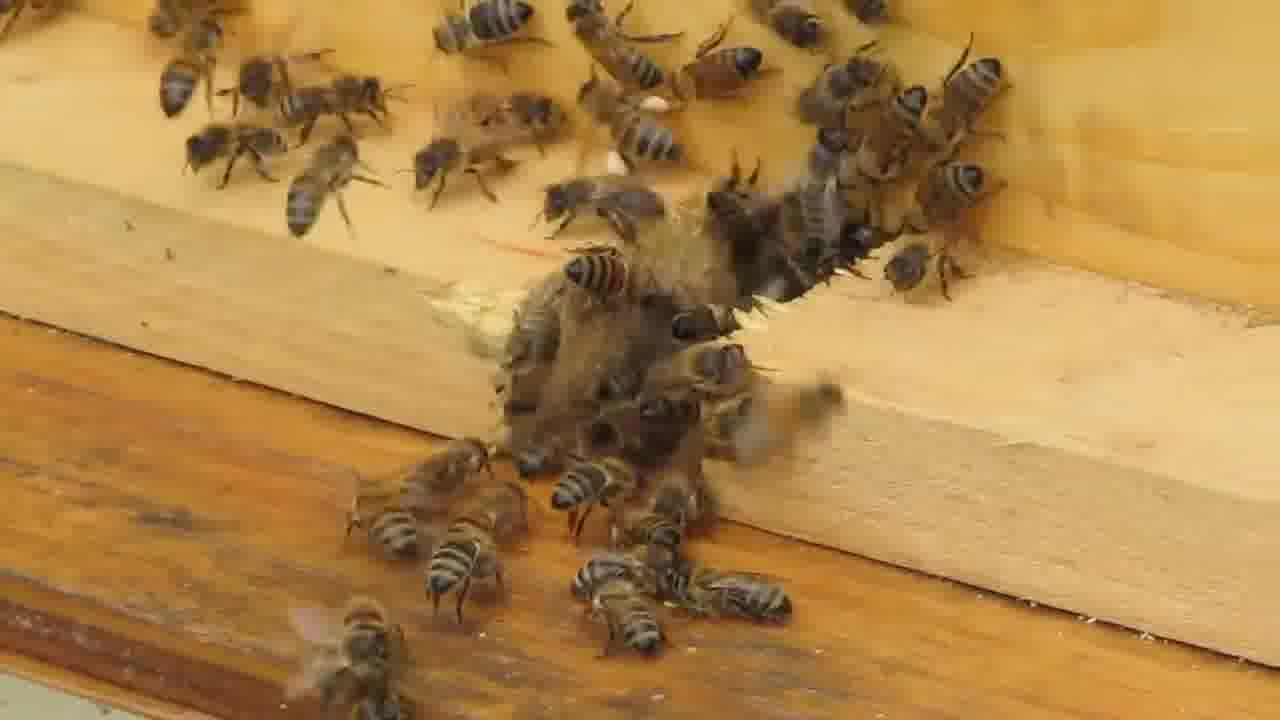pollen: (569, 74, 689, 184)
